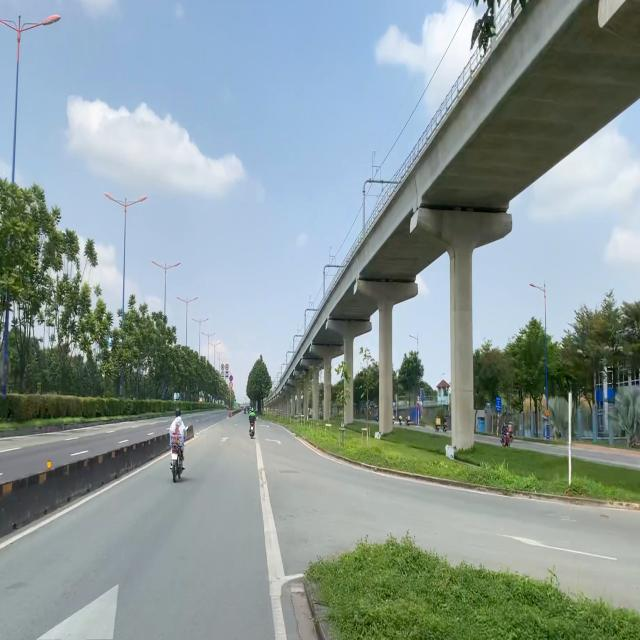Cam dung va do: (229, 375, 233, 382)
Toc do toi da: (225, 363, 229, 370), (221, 364, 224, 371)
